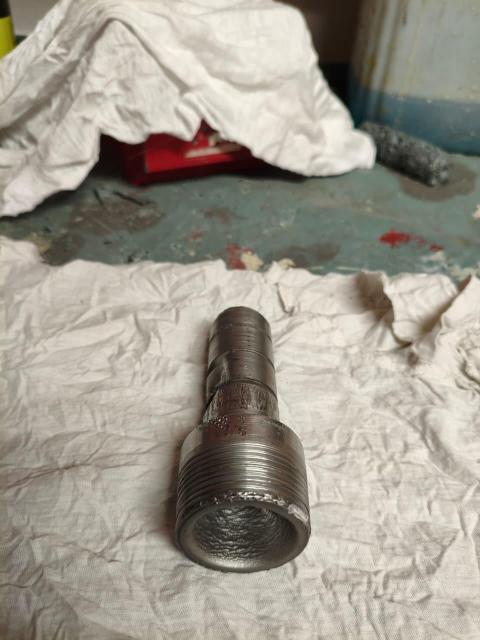Metal: (167, 300, 322, 575)
